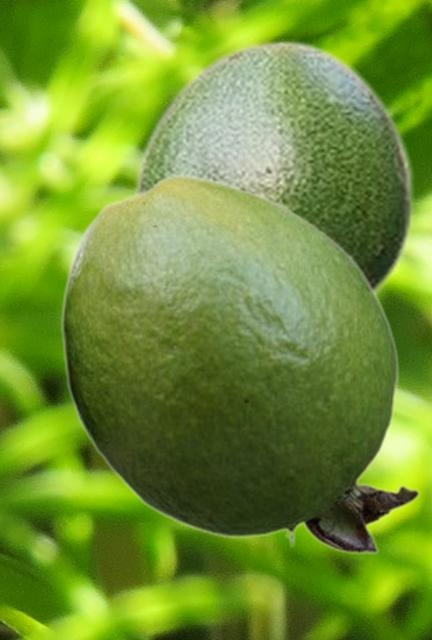guava: (60, 173, 420, 553), (133, 38, 416, 294)
